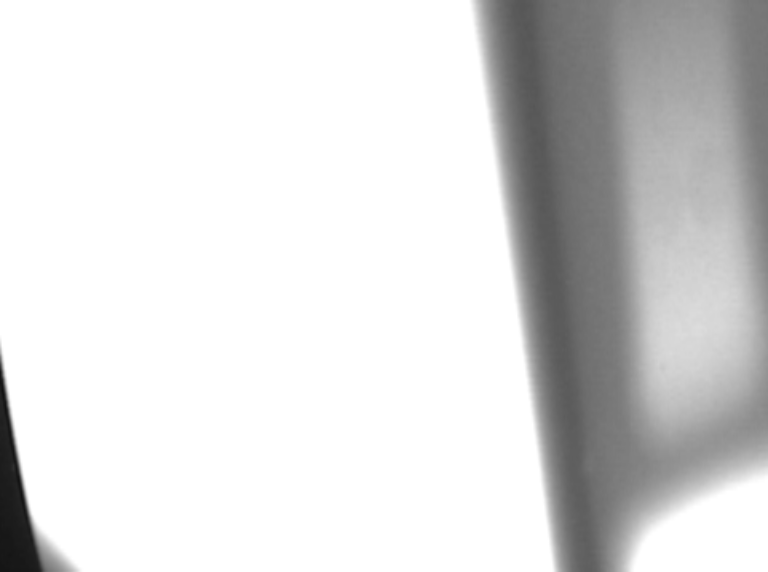defect: (578, 445, 597, 497)
